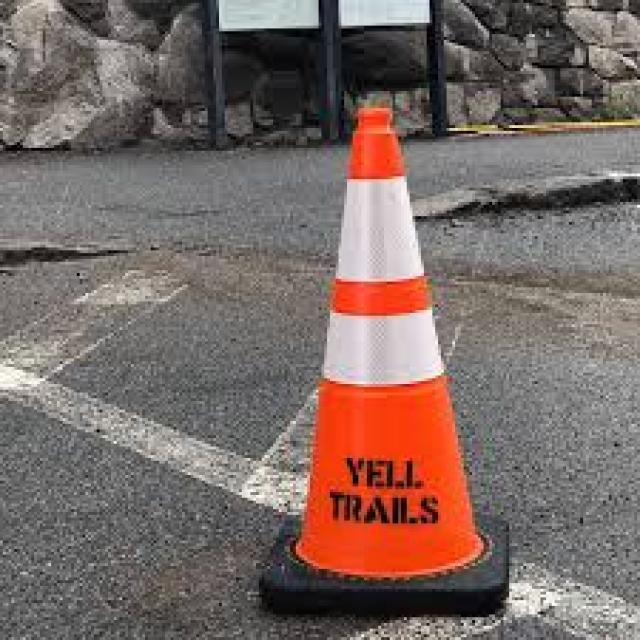cone: (275, 93, 516, 613)
